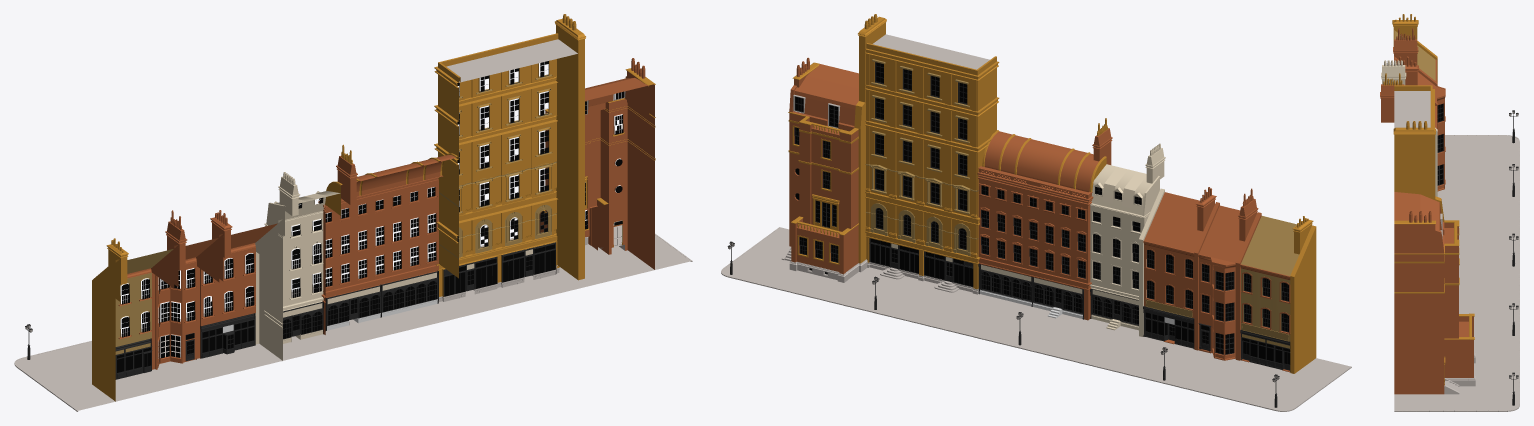
3 views of the same model, side by side, from view 1: azimuth 30°, elevation 25°; view 2: azimuth 150°, elevation 25°; view 3: azimuth 270°, elevation 25° (orthographic). The views are drawn at different scales.
Visible parts, largest first — view 1: cityBlock_07, cityBlock_07_Sidewalk, cityBlock_07_BLDG_B_Windows_Glass, cityBlock_07_BLDG_C_Windows_Glass, cityBlock_07_BLDG_B_Frames, cityBlock_07_BLDG_C_Frames, cityBlock_07_BLDG_E_Windows_Glass, cityBlock_07_BLDG_D_Windows_Glass, cityBlock_07_BLDG_F_Windows_Glass, cityBlock_07_BLDG_E_Frames, cityBlock_07_BLDG_G_Windows_Glass, cityBlock_07_BLDG_G_Frames (+2 smaller); view 2: cityBlock_07, cityBlock_07_Sidewalk, cityBlock_07_BLDG_B_Windows_Glass, cityBlock_07_BLDG_C_Windows_Glass, cityBlock_07_BLDG_C_Frames, cityBlock_07_BLDG_B_Frames, cityBlock_07_BLDG_E_Roof, cityBlock_07_BLDG_G_Roof, cityBlock_07_BLDG_F_Roof, cityBlock_07_BLDG_D_Windows_Glass, cityBlock_07_BLDG_D_Frames, cityBlock_07_BLDG_E_Frames (+8 smaller); view 3: cityBlock_07, cityBlock_07_Sidewalk, cityBlock_07_Curb, cityBlock_07_BLDG_G_Roof, cityBlock_07_BLDG_F_Windows_Glass, cityBlock_07_BLDG_F_Roof, cityBlock_07_BLDG_F_Frames, cityBlock_07_BLDG_A_Chimney, cityBlock_07_BLDG_C_Chimney.
Part boxes in pixels (bbox=[...]): cityBlock_07: bbox=[25, 19, 655, 401]; cityBlock_07_Sidewalk: bbox=[16, 220, 690, 410]; cityBlock_07_BLDG_B_Windows_Glass: bbox=[444, 61, 555, 296]; cityBlock_07_BLDG_C_Windows_Glass: bbox=[325, 187, 436, 325]; cityBlock_07_BLDG_B_Frames: bbox=[443, 61, 555, 296]; cityBlock_07_BLDG_C_Frames: bbox=[325, 192, 438, 330]; cityBlock_07_BLDG_E_Windows_Glass: bbox=[202, 253, 254, 352]; cityBlock_07_BLDG_D_Windows_Glass: bbox=[283, 197, 322, 338]; cityBlock_07_BLDG_F_Windows_Glass: bbox=[159, 268, 195, 361]; cityBlock_07_BLDG_E_Frames: bbox=[200, 301, 255, 358]; cityBlock_07_BLDG_G_Windows_Glass: bbox=[117, 279, 151, 372]; cityBlock_07_BLDG_G_Frames: bbox=[115, 338, 152, 379]; cityBlock_07: bbox=[727, 16, 1316, 407]; cityBlock_07_Sidewalk: bbox=[722, 227, 1350, 410]; cityBlock_07_BLDG_B_Windows_Glass: bbox=[870, 62, 973, 286]; cityBlock_07_BLDG_C_Windows_Glass: bbox=[981, 185, 1085, 312]; cityBlock_07_BLDG_C_Frames: bbox=[978, 185, 1085, 319]; cityBlock_07_BLDG_B_Frames: bbox=[869, 62, 973, 287]; cityBlock_07_BLDG_E_Roof: bbox=[1144, 192, 1202, 252]; cityBlock_07_BLDG_G_Roof: bbox=[1241, 216, 1299, 275]; cityBlock_07_BLDG_F_Roof: bbox=[1199, 205, 1244, 264]; cityBlock_07_BLDG_D_Windows_Glass: bbox=[1093, 187, 1141, 324]; cityBlock_07_BLDG_D_Frames: bbox=[1090, 186, 1141, 325]; cityBlock_07_BLDG_E_Frames: bbox=[1143, 250, 1194, 348]; cityBlock_07: bbox=[1380, 14, 1518, 405]; cityBlock_07_Sidewalk: bbox=[1394, 135, 1518, 410]; cityBlock_07_Curb: bbox=[1394, 135, 1519, 411]; cityBlock_07_BLDG_G_Roof: bbox=[1394, 30, 1435, 80]; cityBlock_07_BLDG_F_Windows_Glass: bbox=[1437, 104, 1442, 184]; cityBlock_07_BLDG_F_Roof: bbox=[1394, 56, 1444, 100]; cityBlock_07_BLDG_F_Frames: bbox=[1437, 103, 1443, 185]; cityBlock_07_BLDG_A_Chimney: bbox=[1409, 211, 1431, 222]; cityBlock_07_BLDG_C_Chimney: bbox=[1383, 73, 1402, 85].
Bounding box in the file's own units: 364 × 148 × 78.03.
